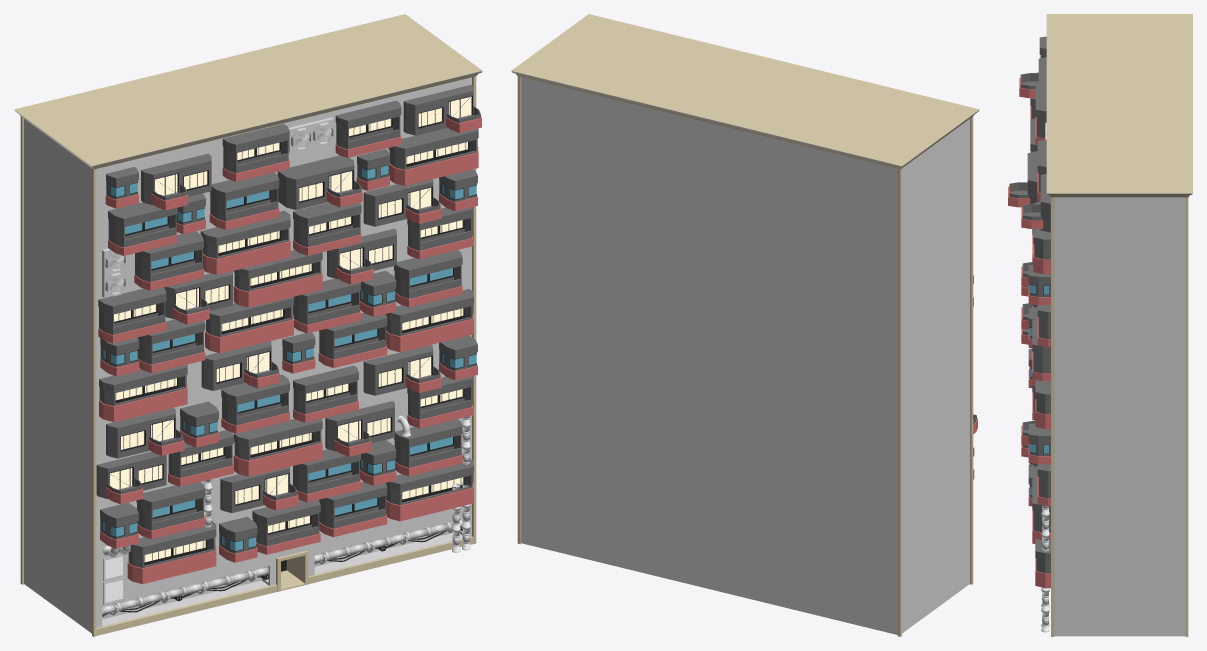
File: Bloc_23F.fbx
The picture shows the model from 3 angles, left to right: view 1: azimuth 30°, elevation 25°; view 2: azimuth 150°, elevation 25°; view 3: azimuth 270°, elevation 25°; orthographic projection. The views are drawn at different scales.
Visible parts, largest first — view 1: Bloc_23F; view 2: Bloc_23F; view 3: Bloc_23F.
Boxes of the visible parts, x1,y1,x2,y2 form: Bloc_23F: [14, 14, 482, 636]; Bloc_23F: [511, 14, 979, 636]; Bloc_23F: [1008, 14, 1192, 636].
Bounding box in the file's own units: 1241 × 3300 × 2854.
